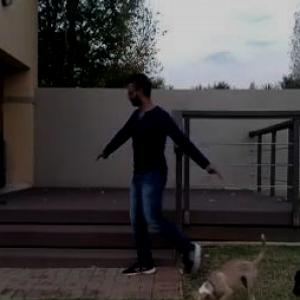land: (93, 68, 239, 278)
